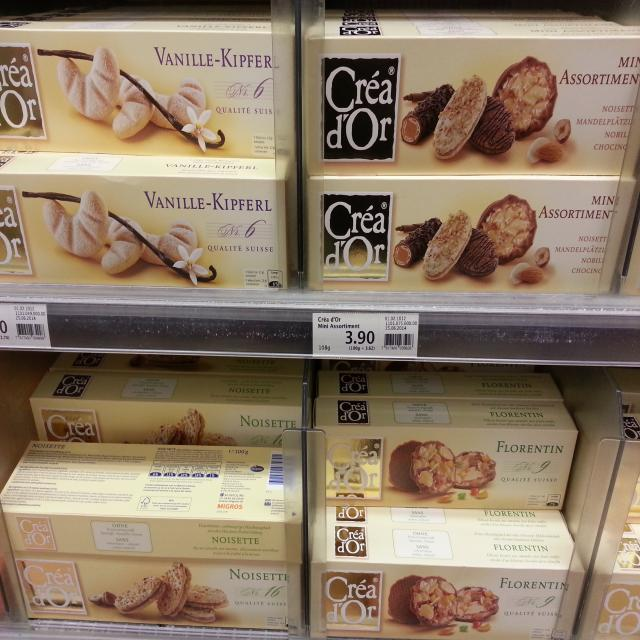Biscuits: (298, 22, 640, 172), (0, 15, 295, 157), (304, 172, 640, 292), (0, 158, 297, 288), (0, 438, 302, 564), (308, 505, 585, 640), (311, 402, 580, 510), (17, 551, 304, 635)
